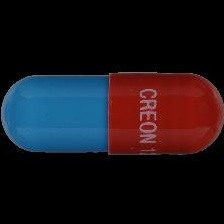0032-1206: (0, 0, 224, 224)
